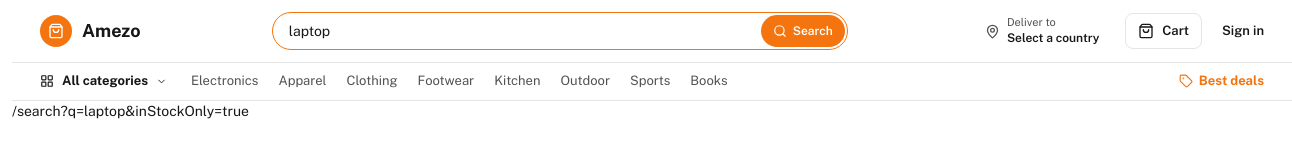
SiteHeader › drops the term but keeps the other filters when the box is cleared
Clear the field named "Search products": (523, 31) top-left (289, 15), bottom-right (757, 47)
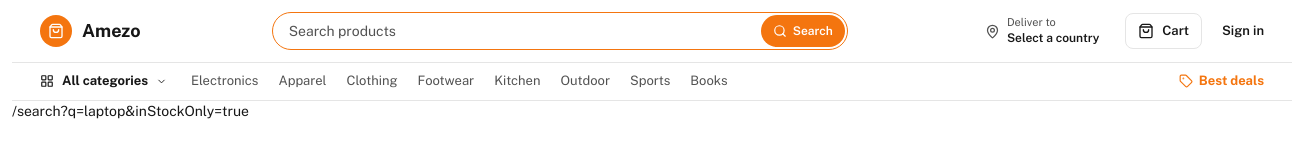
Click the button "Search": (803, 31) top-left (761, 15), bottom-right (845, 47)
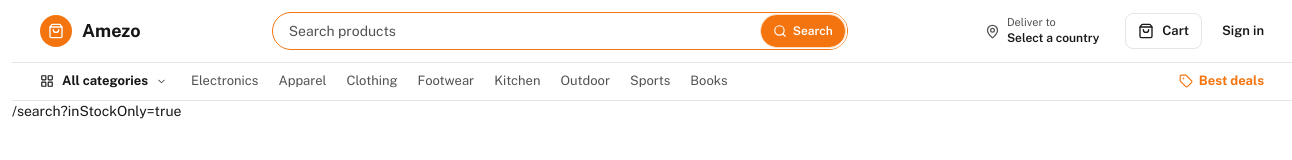
Expected: the text with test id "location" reads "/search?inStockOnly=true", top-left (12, 103), bottom-right (182, 119)
